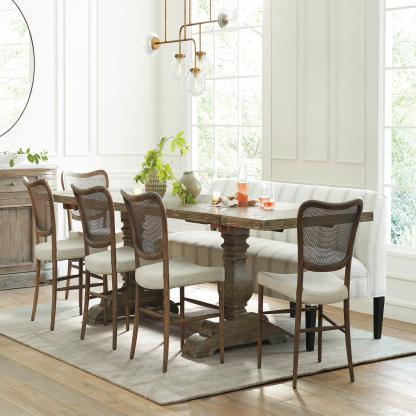chair: (247, 195, 373, 395), (124, 187, 226, 368), (73, 177, 163, 344), (19, 175, 104, 325)
light: (189, 7, 202, 98), (194, 14, 209, 77), (175, 29, 188, 90), (216, 7, 244, 33), (145, 29, 168, 60)
sofa: (161, 183, 395, 341)
table: (34, 191, 376, 362)
